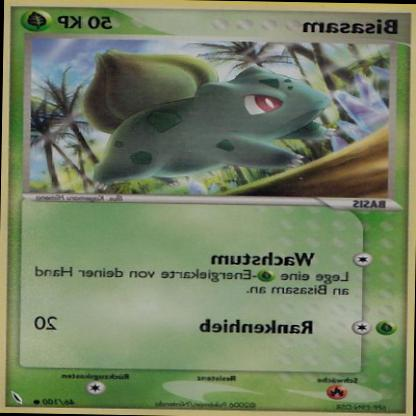Bulbasaur: (76, 46, 357, 187)
